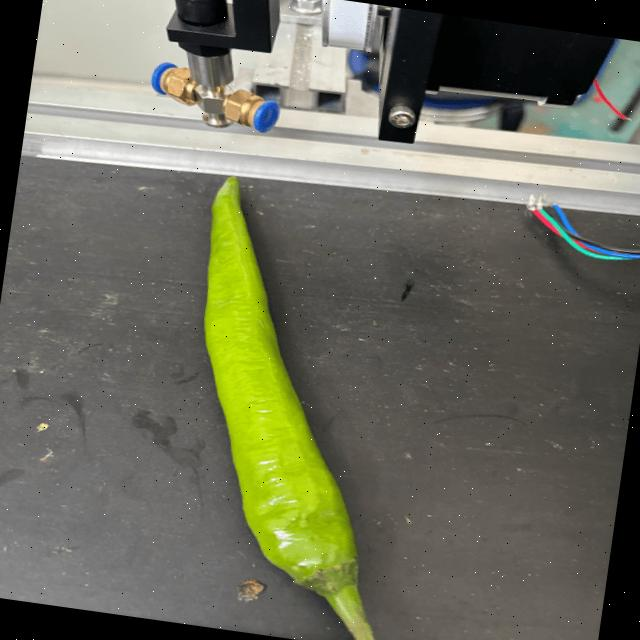chili: (203, 172, 358, 597)
